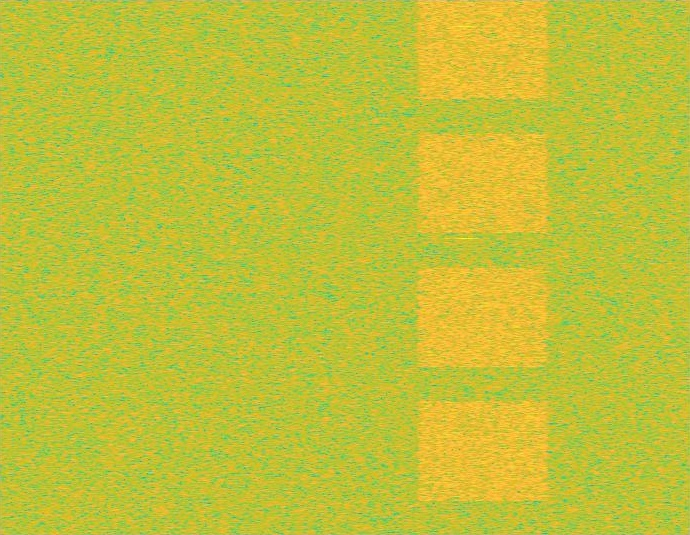5G: (414, 0, 552, 534)
Radar: (459, 0, 473, 534)
